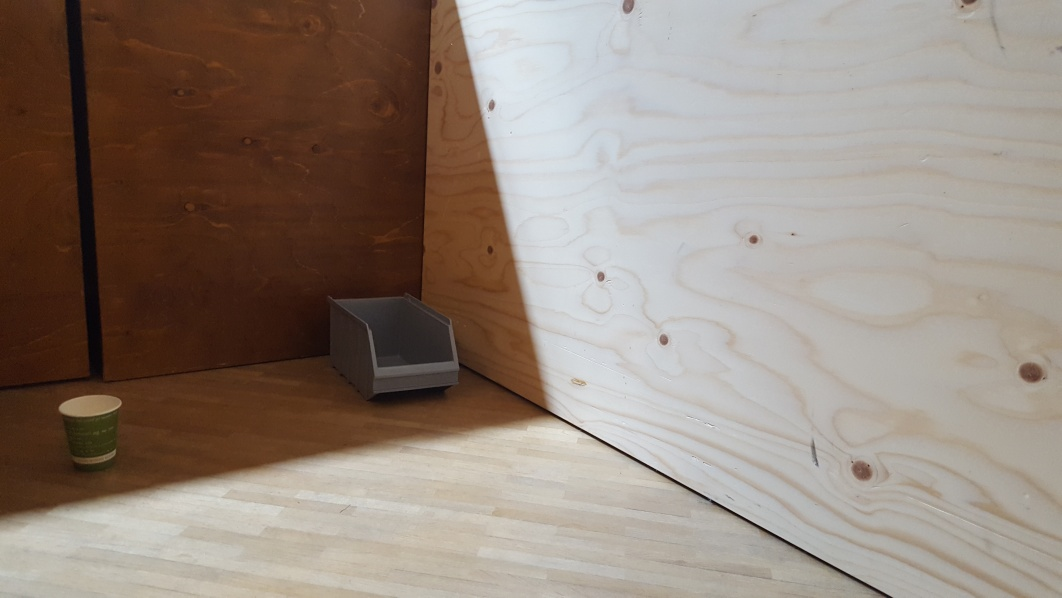cup: (56, 388, 127, 474)
tray: (321, 287, 468, 411)
